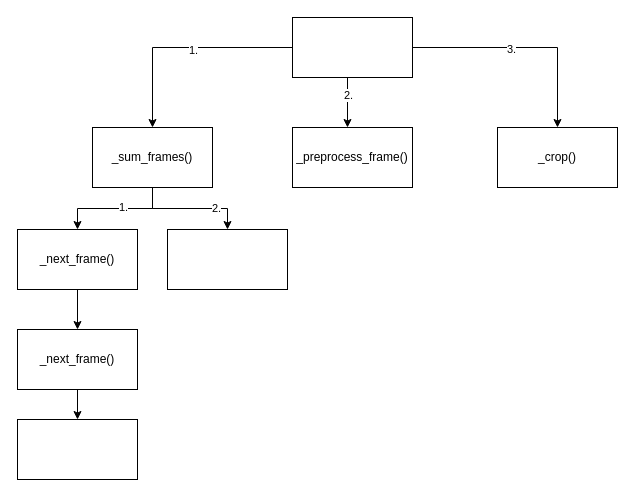
The diagram is 635 pixels wide and 497 high, and some of its shapes have lost their labels. Here are the shapes that lost their labels. From the top down, the centre of each, then its label:
point 352,47: provide_frames()
point 227,259: _normalize_frames()
point 77,449: get_frame()
